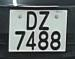4: (25, 31, 37, 52)
7: (14, 30, 26, 52)
8: (49, 29, 63, 52), (37, 30, 50, 52)
D: (25, 10, 39, 32)
Z: (38, 9, 51, 32)
